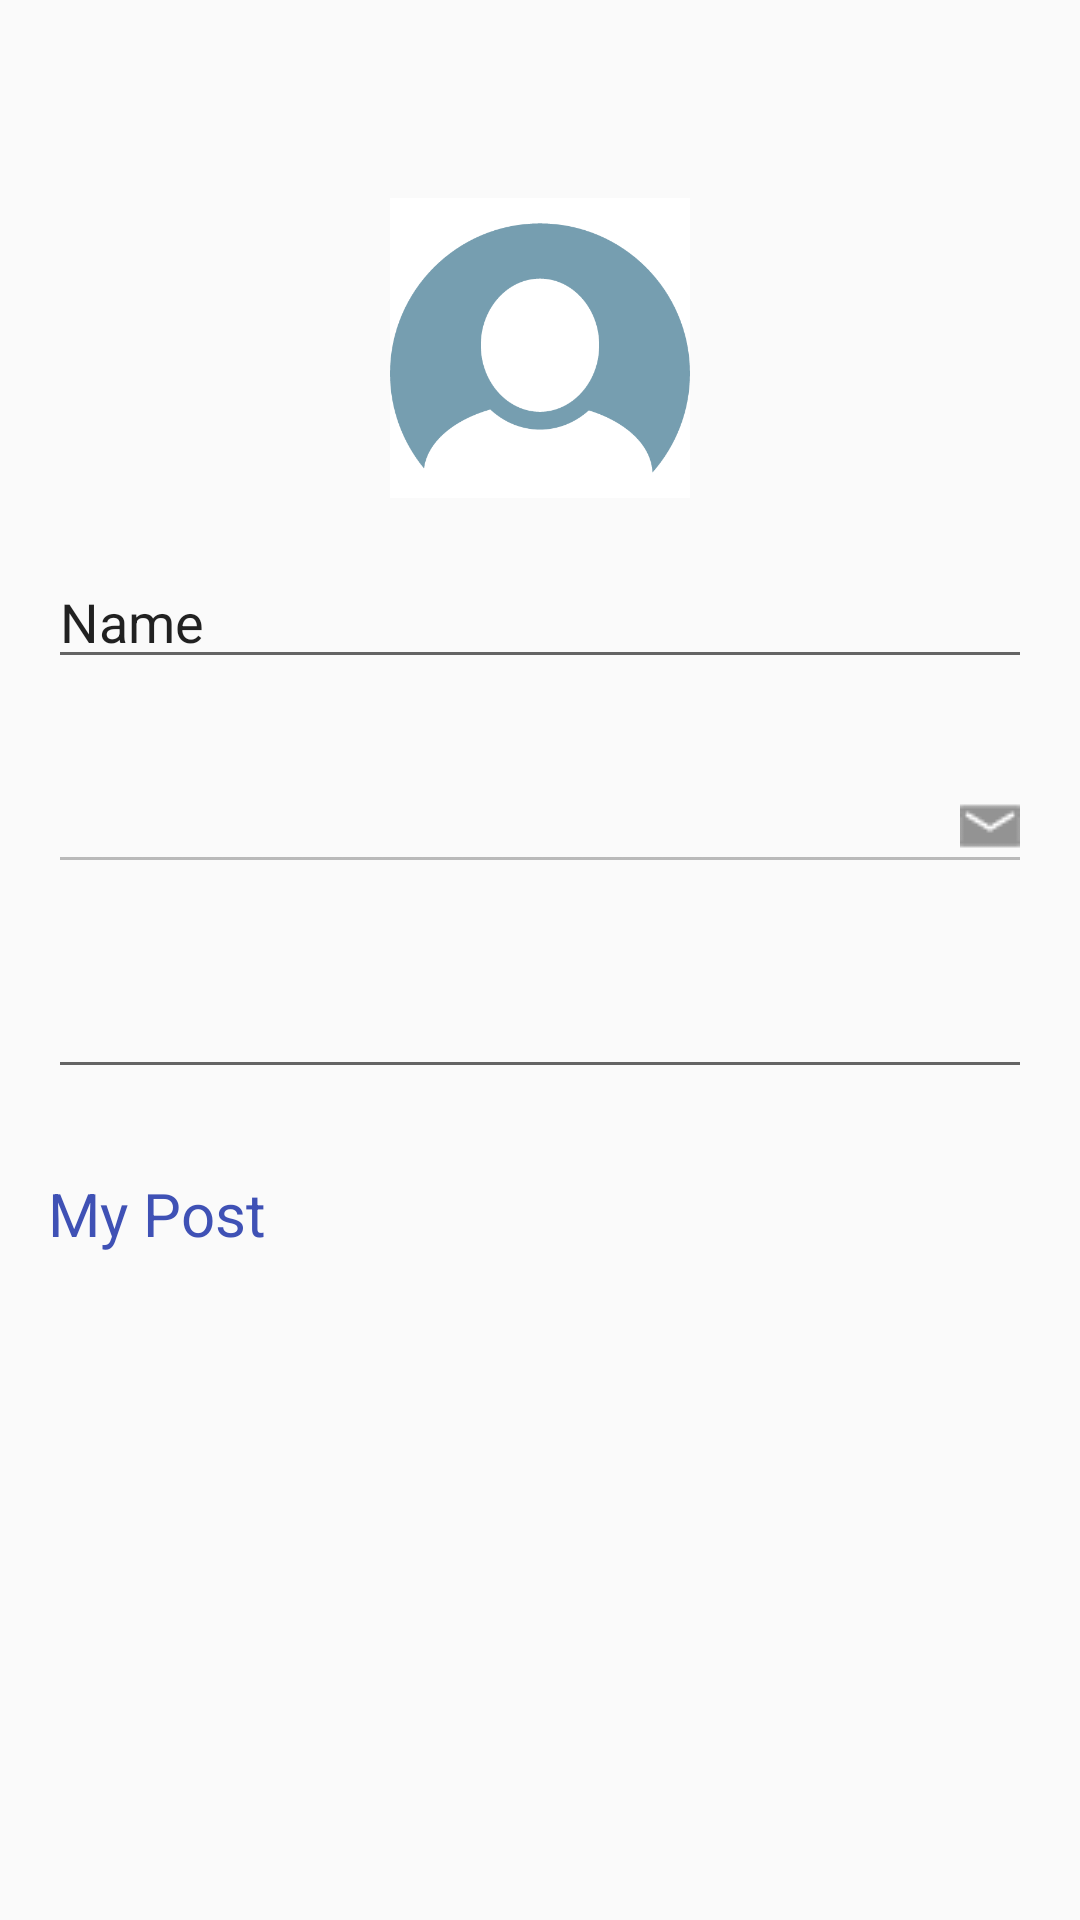

Icons on this 1080px x 1920px Android screen, each with its box as (x1,y1,x2,y2):
user: (390,223,690,472)
